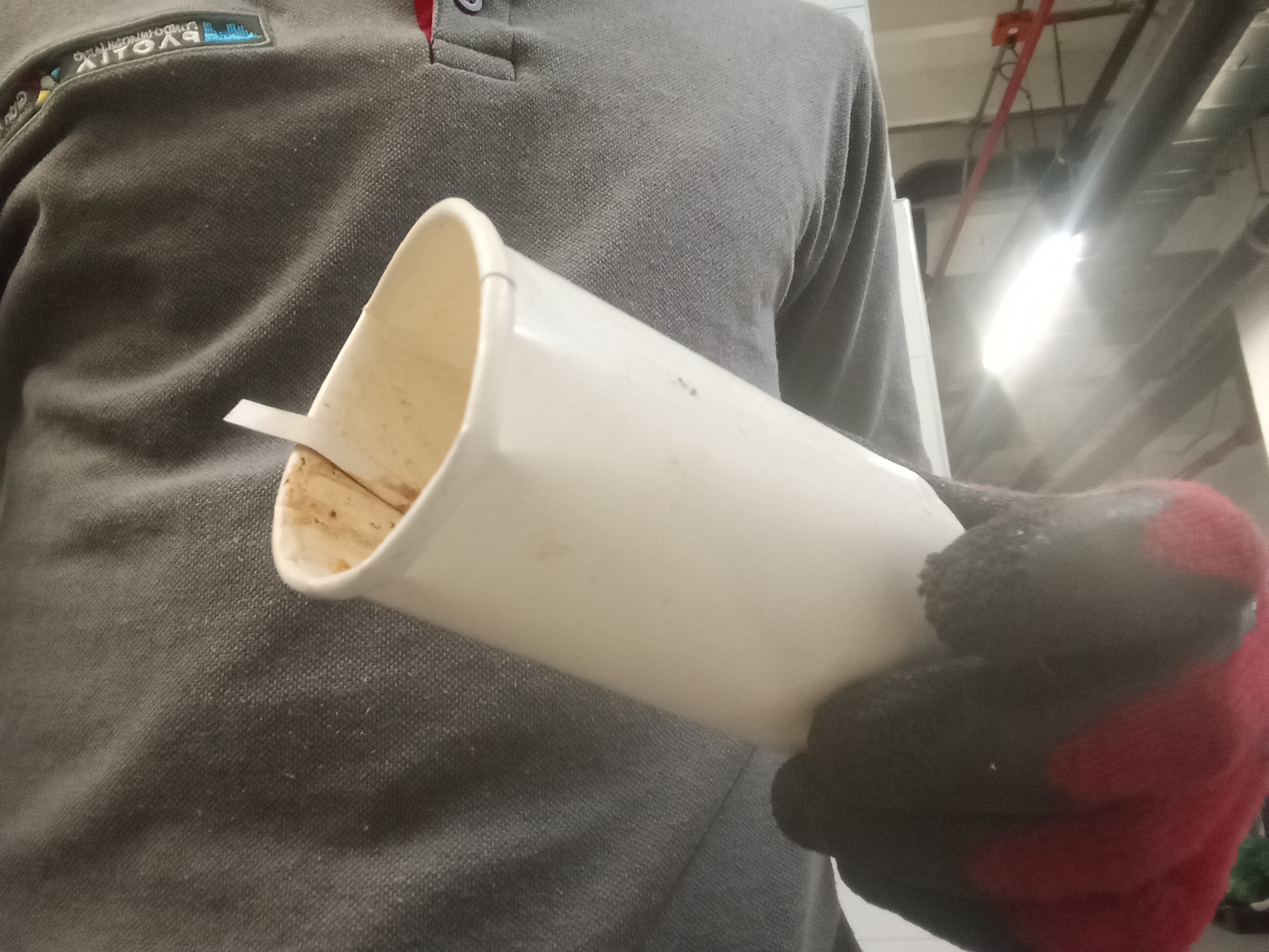Carton: (272, 195, 996, 753)
